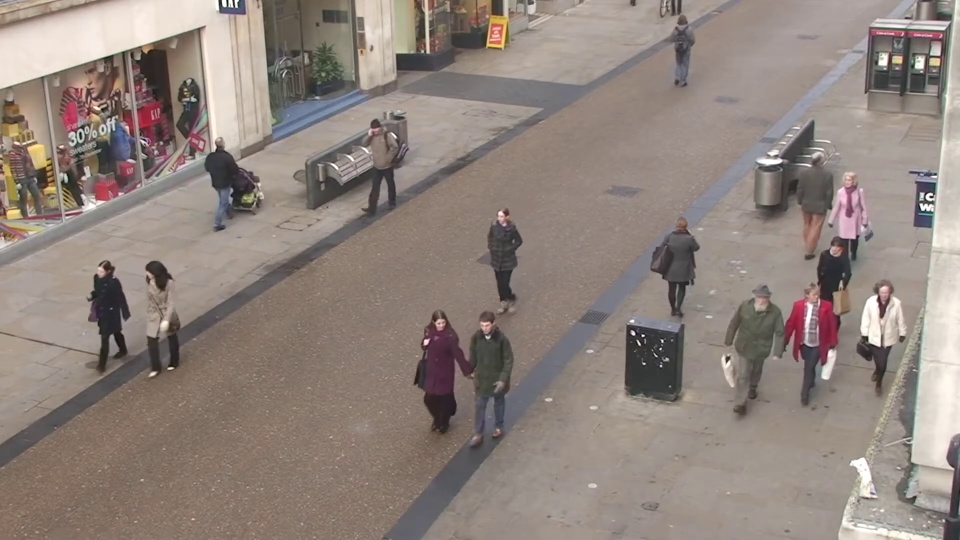pedestrian: (852, 281, 908, 422), (75, 257, 133, 388), (411, 311, 462, 457), (123, 262, 178, 394), (730, 290, 781, 432), (780, 278, 832, 417), (456, 315, 505, 462), (802, 239, 851, 368), (661, 208, 702, 330), (822, 169, 866, 280), (479, 209, 519, 330), (796, 146, 836, 250), (210, 127, 248, 224), (352, 120, 387, 216), (670, 12, 694, 80)
